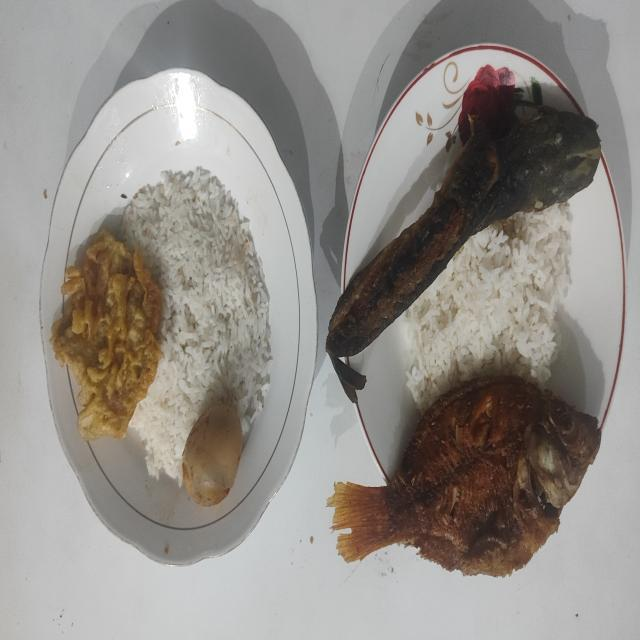ikan_mujair: (327, 378, 601, 576)
nasi_putih: (122, 167, 272, 481), (402, 202, 572, 412)
